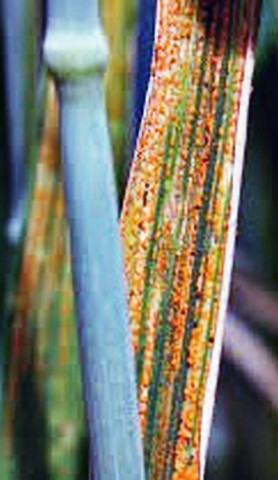Leaf Rust: (122, 32, 268, 407)
